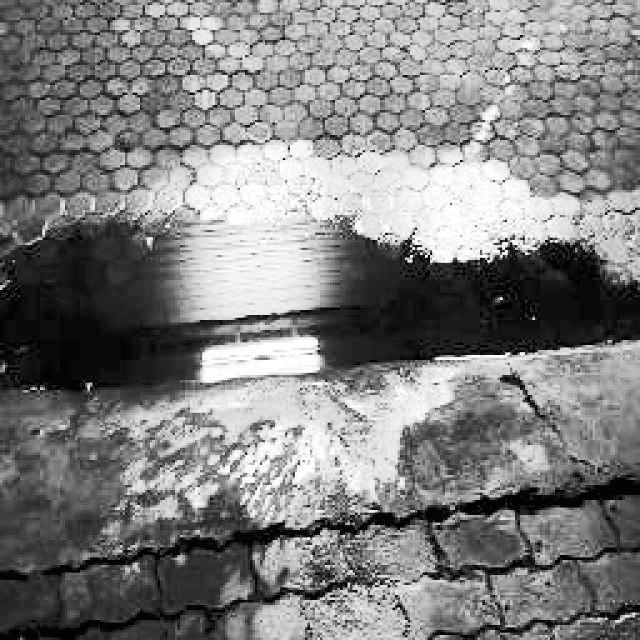Pothole: (0, 169, 640, 404)
